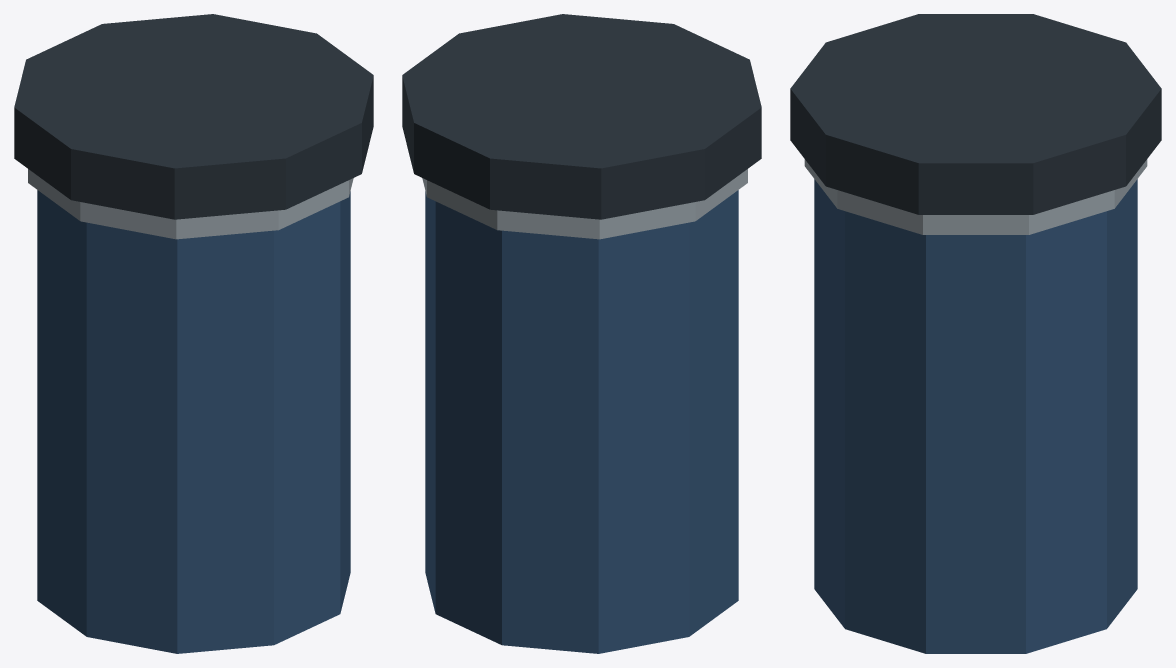
Rendered from trash_bin.glb.
3 views of the same model, side by side, from view 1: azimuth 30°, elevation 25°; view 2: azimuth 150°, elevation 25°; view 3: azimuth 270°, elevation 25° (orthographic).
Visible parts, largest first — view 1: trash_bin_body, trash_bin_lid, trash_bin_rim; view 2: trash_bin_body, trash_bin_lid, trash_bin_rim; view 3: trash_bin_body, trash_bin_lid, trash_bin_rim.
Part boxes in pixels (x1,y1,x2,y2): trash_bin_body: (37,190,350,653); trash_bin_lid: (14,14,373,219); trash_bin_rim: (28,169,353,239); trash_bin_body: (425,190,738,653); trash_bin_lid: (402,14,761,219); trash_bin_rim: (422,169,747,239); trash_bin_body: (814,179,1137,653); trash_bin_lid: (790,14,1161,214); trash_bin_rim: (804,159,1147,234).
Size of the model in its own units: 0.7418 by 1.16 by 0.78.
